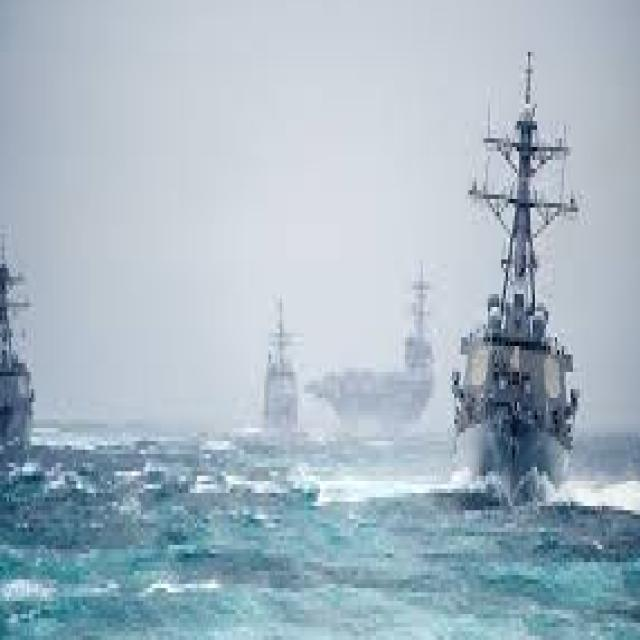navalvessels: (450, 42, 595, 496), (300, 265, 443, 444), (0, 238, 38, 454), (259, 287, 309, 431)
